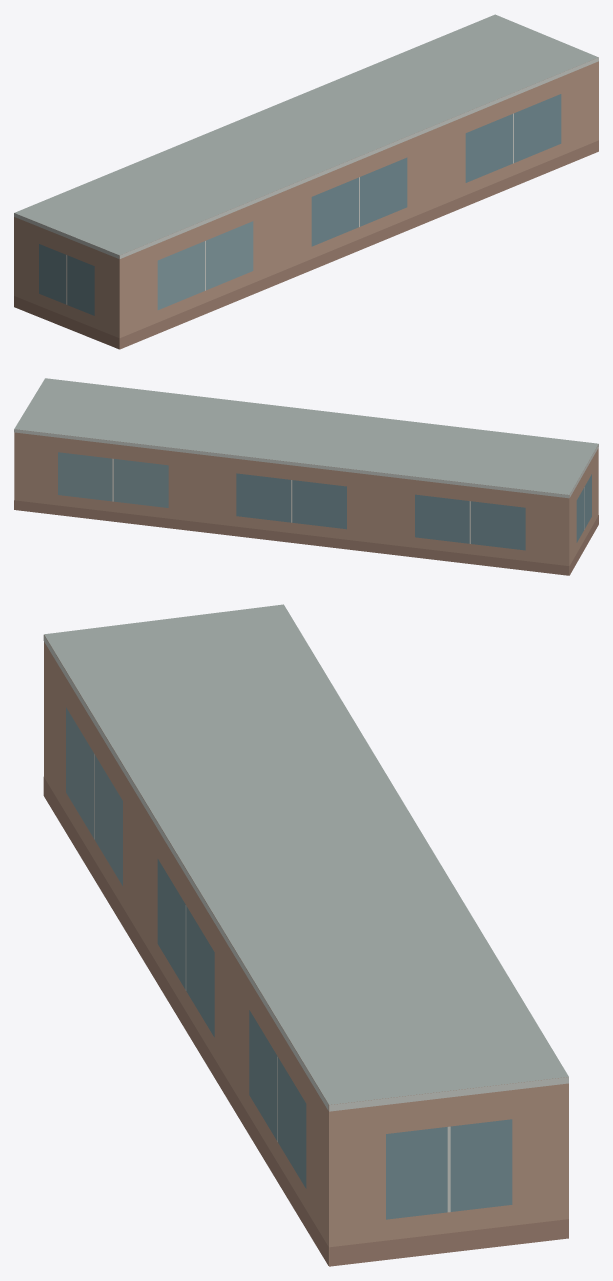
The model's file is survey-upis-32712873.glb.
3 views of the same model, one above another, from view 1: azimuth 30°, elevation 25°; view 2: azimuth 150°, elevation 25°; view 3: azimuth 270°, elevation 25° (orthographic). The views are drawn at different scales.
Visible parts, largest first — view 1: survey-upis-32712873.tmp; view 2: survey-upis-32712873.tmp; view 3: survey-upis-32712873.tmp.
Boxes of the visible parts, <box> form: survey-upis-32712873.tmp: <box>14,14,598,349</box>; survey-upis-32712873.tmp: <box>14,378,598,575</box>; survey-upis-32712873.tmp: <box>43,604,568,1266</box>.
Size of the model in its own units: 20.29 by 3.05 by 9.
